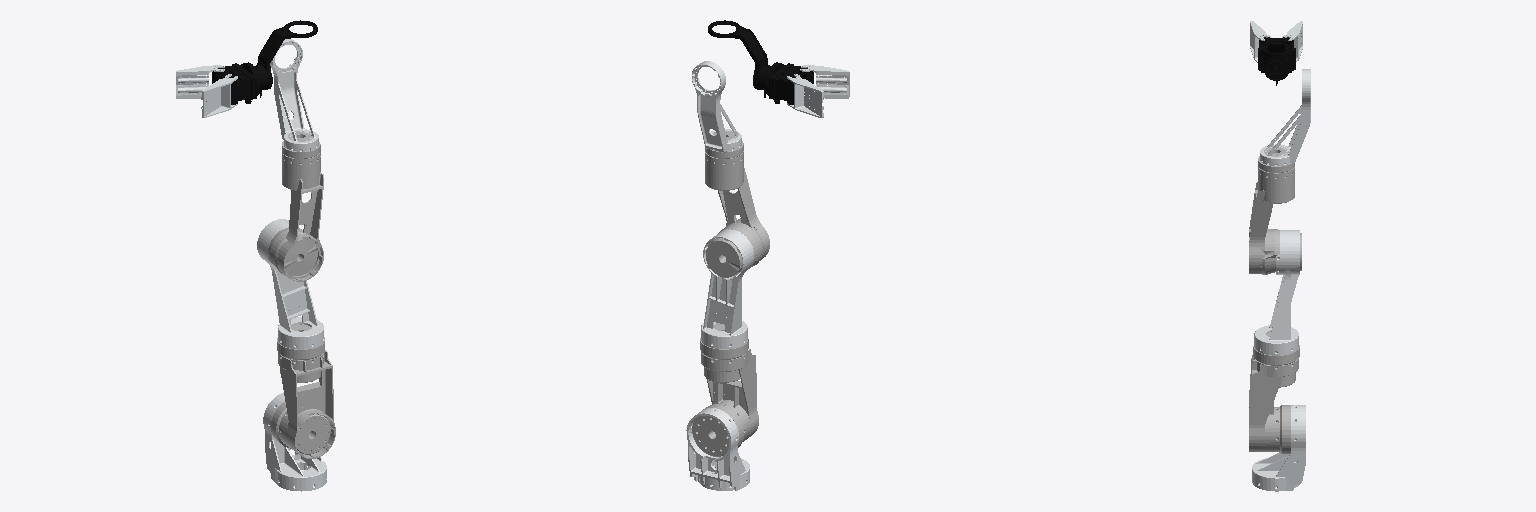
URDF robot description (arm):
<?xml version="1.0" encoding="utf-8"?>
<!-- This URDF was automatically created by SolidWorks to URDF Exporter! Originally created by [author] ([email redacted]) 
     Commit Version: 1.5.1-0-g916b5db  Build Version: 1.5.7152.31018
     For more information, please see http://wiki.ros.org/sw_urdf_exporter -->
<robot
  name="arm">
  <link
    name="base_link">
    <!--visual>
      <origin
        xyz="0 0 0"
        rpy="0 0 0" />
      <geometry>
        <mesh
          filename="package://griper/meshes/base_link.STL" />
      </geometry>
    </visual-->
  </link>

  <link
    name="leftarm_link1">
    <inertial>
      <origin
        xyz="5.55636001264848E-06 0.0288426218219448 -0.0719468523797084"
        rpy="0 0 0" />
      <mass
        value="0.185843840147318" />
      <inertia
        ixx="0.000648795137567167"
        ixy="2.97405201709316E-08"
        ixz="2.74002482408397E-08"
        iyy="0.000733900314751349"
        iyz="-0.000151109528398387"
        izz="0.000491282759255518" />
    </inertial>
    <visual>
      <origin
        xyz="0 0 0"
        rpy="0 0 0" />
      <geometry>
        <mesh
          filename="package://arm_model/meshes/leftarm_link1.obj" />
      </geometry>
      <material
        name="">
        <color
          rgba="0.898039215686275 0.913725490196078 0.925490196078431 1" />
      </material>
    </visual>
    <collision>
      <origin
        xyz="0 0 0"
        rpy="0 0 0" />
      <geometry>
        <mesh
          filename="package://arm_model/meshes/leftarm_link1.STL" />
      </geometry>
    </collision>
  </link>
  <joint
    name="leftarm_joint1"
    type="revolute">
    <origin
      xyz="0 0 0.3"
      rpy="0 0 0" />
    <parent
      link="base_link" />
    <child
      link="leftarm_link1" />
    <axis
      xyz="0 0 1" />
    <limit
      lower="-1.57"
      upper="1.57"
      effort="0"
      velocity="0" />
  </joint>
  <link
    name="leftarm_link2">
    <inertial>
      <origin
        xyz="8.00238142417697E-09 -0.0871819124783481 -0.000487247269088549"
        rpy="0 0 0" />
      <mass
        value="1.90490933692951" />
      <inertia
        ixx="0.0187743359656438"
        ixy="-1.72667623805475E-10"
        ixz="2.36806134467782E-10"
        iyy="0.00310589558857611"
        iyz="-0.000254496269531722"
        izz="0.0186287374840551" />
    </inertial>
    <visual>
      <origin
        xyz="0 0 0"
        rpy="0 0 0" />
      <geometry>
        <mesh
          filename="package://arm_model/meshes/leftarm_link2.obj" />
      </geometry>
      <material
        name="">
        <color
          rgba="0.752941176470588 0.752941176470588 0.752941176470588 1" />
      </material>
    </visual>
    <collision>
      <origin
        xyz="0 0 0"
        rpy="0 0 0" />
      <geometry>
        <mesh
          filename="package://arm_model/meshes/leftarm_link2.STL" />
      </geometry>
    </collision>
  </link>
  <joint
    name="leftarm_joint2"
    type="revolute">
    <origin
      xyz="0 0 0"
      rpy="-1.5708 0 0" />
    <parent
      link="leftarm_link1" />
    <child
      link="leftarm_link2" />
    <axis
      xyz="0 0 1" />
    <limit
      lower="-1.57"
      upper="1.57"
      effort="0"
      velocity="0" />
  </joint>
  <link
    name="leftarm_link3">
    <inertial>
      <origin
        xyz="-0.0155054054014349 0.0176104587173533 -0.0972649243526421"
        rpy="0 0 0" />
      <mass
        value="0.209213306011879" />
      <inertia
        ixx="0.00173915719253396"
        ixy="2.27350480852923E-05"
        ixz="0.000221363794616359"
        iyy="0.0018810977872288"
        iyz="-0.00015929064906947"
        izz="0.000333123310451502" />
    </inertial>
    <visual>
      <origin
        xyz="0 0 0"
        rpy="0 0 0" />
      <geometry>
        <mesh
          filename="package://arm_model/meshes/leftarm_link3.obj" />
      </geometry>
      <material
        name="">
        <color
          rgba="0.898039215686275 0.913725490196078 0.925490196078431 1" />
      </material>
    </visual>
    <collision>
      <origin
        xyz="0 0 0"
        rpy="0 0 0" />
      <geometry>
        <mesh
          filename="package://arm_model/meshes/leftarm_link3.STL" />
      </geometry>
    </collision>
  </link>
  <joint
    name="leftarm_joint3"
    type="revolute">
    <origin
      xyz="0 -0.4495 0"
      rpy="1.5708 0 0" />
    <parent
      link="leftarm_link2" />
    <child
      link="leftarm_link3" />
    <axis
      xyz="0 0 1" />
    <limit
      lower="-1.57"
      upper="1.57"
      effort="0"
      velocity="0" />
  </joint>
  <link
    name="leftarm_link4">
    <inertial>
      <origin
        xyz="0.0110265333983113 -0.0799852039296288 -0.00108071218906549"
        rpy="0 0 0" />
      <mass
        value="1.33690625718003" />
      <inertia
        ixx="0.0167776214945798"
        ixy="0.00198890984901769"
        ixz="2.96057292568186E-05"
        iyy="0.00218457251751038"
        iyz="-0.000118920676489954"
        izz="0.0167428671342608" />
    </inertial>
    <visual>
      <origin
        xyz="0 0 0"
        rpy="0 0 0" />
      <geometry>
        <mesh
          filename="package://arm_model/meshes/leftarm_link4.obj" />
      </geometry>
      <material
        name="">
        <color
          rgba="0.752941176470588 0.752941176470588 0.752941176470588 1" />
      </material>
    </visual>
    <collision>
      <origin
        xyz="0 0 0"
        rpy="0 0 0" />
      <geometry>
        <mesh
          filename="package://arm_model/meshes/leftarm_link4.STL" />
      </geometry>
    </collision>
  </link>
  <joint
    name="leftarm_joint4"
    type="revolute">
    <origin
      xyz="-0.03 0 0"
      rpy="-1.5708 0 0" />
    <parent
      link="leftarm_link3" />
    <child
      link="leftarm_link4" />
    <axis
      xyz="0 0 1" />
    <limit
      lower="-1.57"
      upper="1.57"
      effort="0"
      velocity="0" />
  </joint>
  <link
    name="leftarm_link5">
    <inertial>
      <origin
        xyz="-1.03809204565763E-08 0.0443595329846337 -0.105428960201801"
        rpy="0 0 0" />
      <mass
        value="0.10575077384632" />
      <inertia
        ixx="0.000617136760733635"
        ixy="-3.54168110192346E-11"
        ixz="-6.68780404729048E-11"
        iyy="0.000561067761108561"
        iyz="-0.000173267808268949"
        izz="0.000159582914664926" />
    </inertial>
    <visual>
      <origin
        xyz="0 0 0"
        rpy="0 0 0" />
      <geometry>
        <mesh
          filename="package://arm_model/meshes/leftarm_link5.obj" />
      </geometry>
      <material
        name="">
        <color
          rgba="0.898039215686275 0.913725490196078 0.925490196078431 1" />
      </material>
    </visual>
    <collision>
      <origin
        xyz="0 0 0"
        rpy="0 0 0" />
      <geometry>
        <mesh
          filename="package://arm_model/meshes/leftarm_link5.STL" />
      </geometry>
    </collision>
  </link>
  <joint
    name="leftarm_joint5"
    type="revolute">
    <origin
      xyz="0.03 -0.4495 0"
      rpy="1.5708 0 0" />
    <parent
      link="leftarm_link4" />
    <child
      link="leftarm_link5" />
    <axis
      xyz="0 0 1" />
    <limit
      lower="-1.57"
      upper="1.57"
      effort="0"
      velocity="0" />
  </joint>
  <link
    name="leftarm_link6">
    <inertial>
      <origin
        xyz="0.00111786512590739 -0.00737759119391534 -0.00255095894124485"
        rpy="0 0 0" />
      <mass
        value="2.16214825847123" />
      <inertia
        ixx="0.00602513474729965"
        ixy="-1.78610000917091E-05"
        ixz="0.000134785697607461"
        iyy="0.00509339137287331"
        iyz="5.66252208164899E-05"
        izz="0.00621299091987803" />
    </inertial>
    <visual>
      <origin
        xyz="0 0 0"
        rpy="0 0 3.1416" />
      <geometry>
        <mesh
          filename="package://arm_model/meshes/leftarm_link6_.STL" />
      </geometry>
      <material
        name="">
        <color
          rgba="0.792156862745098 0.819607843137255 0.933333333333333 1" />
      </material>
    </visual>
    <collision>
      <origin
        xyz="0 0 0"
        rpy="0 0 0" />
      <geometry>
        <mesh
          filename="package://arm_model/meshes/leftarm_link6_.STL" />
      </geometry>
    </collision>
  </link>
  <joint
    name="leftarm_joint6"
    type="revolute">
    <origin
      xyz="0 0 0"
      rpy="-1.5708 0 0" />
    <parent
      link="leftarm_link5" />
    <child
      link="leftarm_link6" />
    <axis
      xyz="0 0 1" />
    <limit
      lower="-1.57"
      upper="1.57"
      effort="0"
      velocity="0" />
  </joint>
  <link
    name="leftarm_link7">
    <inertial>
      <origin
        xyz="0.13844 -2.1332E-05 0.014219"
        rpy="0 0 0" />
      <mass
        value="0.47981" />
      <inertia
        ixx="0.00035732"
        ixy="1.4355E-07"
        ixz="0.00012634"
        iyy="0.00050931"
        iyz="-3.9431E-08"
        izz="0.0003531" />
    </inertial>
    <visual>
      <origin
        xyz="0 0 0"
        rpy="03.1416 0 0" />
      <geometry>
        <mesh
          filename="package://arm_model/meshes/leftarm_link7_.STL" />
      </geometry>
      <material
        name="">
        <color
          rgba="0.1 0.1 0.1 1" />
      </material>
    </visual>
    <collision>
      <origin
        xyz="0 0 0"
        rpy="0 0 0" />
      <geometry>
        <mesh
          filename="package://arm_model/meshes/leftarm_link7_.STL" />
      </geometry>
    </collision>
  </link>
  <joint
    name="leftarm_joint7"
    type="revolute">
    <origin
      xyz="0 0 0"
      rpy="1.5708 0 3.1416" />
    <parent
      link="leftarm_link6" />
    <child
      link="leftarm_link7" />
    <axis
      xyz="0 0 1" />
    <limit
      lower="-1.57"
      upper="1.57"
      effort="0"
      velocity="0" />
  </joint>
  <link
    name="griper1">
    <inertial>
      <origin
        xyz="0.016041 0.048076 -4.9981E-05"
        rpy="0 0 0" />
      <mass
        value="0.11514" />
      <inertia
        ixx="0.00014093"
        ixy="-2.1606E-05"
        ixz="-3.1455E-11"
        iyy="7.8491E-05"
        iyz="-8.2644E-11"
        izz="8.535E-05" />
    </inertial>
    <visual>
      <origin
        xyz="0 0 0"
        rpy="0 0 0" />
      <geometry>
        <mesh
          filename="package://arm_model/meshes/griper1.STL" />
      </geometry>
      <material
        name="">
        <color
          rgba="0.89804 0.91765 0.92941 1" />
      </material>
    </visual>
    <collision>
      <origin
        xyz="0 0 0"
        rpy="0 0 0" />
      <geometry>
        <mesh
          filename="package://arm_model/meshes/griper1.STL" />
      </geometry>
    </collision>
  </link>
  <joint
    name="griper_joint1"
    type="revolute">
    <origin
      xyz="0.19797 0.027 0.00015"
      rpy="-3.1416 0 1.5708" />
    <parent
      link="leftarm_link7" />
    <child
      link="griper1" />
    <axis
      xyz="0 0 1" />
    <limit
      lower="0"
      upper="0"
      effort="0"
      velocity="0" />
  </joint>
  <link
    name="griper2">
    <inertial>
      <origin
        xyz="0.016041 0.048076 5.0018E-05"
        rpy="0 0 0" />
      <mass
        value="0.11514" />
      <inertia
        ixx="0.00014093"
        ixy="-2.1606E-05"
        ixz="-3.3253E-11"
        iyy="7.8491E-05"
        iyz="-8.1585E-11"
        izz="8.535E-05" />
    </inertial>
    <visual>
      <origin
        xyz="0 0 0"
        rpy="0 0 0" />
      <geometry>
        <mesh
          filename="package://arm_model/meshes/griper1.STL" />
      </geometry>
      <material
        name="">
        <color
          rgba="0.89804 0.91765 0.92941 1" />
      </material>
    </visual>
    <collision>
      <origin
        xyz="0 0 0"
        rpy="0 0 0" />
      <geometry>
        <mesh
          filename="package://arm_model/meshes/griper1.STL" />
      </geometry>
    </collision>
  </link>
  <joint
    name="griper_joint2"
    type="revolute">
    <origin
      xyz="0.19797 -0.027 0.00015"
      rpy="0 0 -1.5708" />
    <parent
      link="leftarm_link7" />
    <child
      link="griper2" />
    <axis
      xyz="0 0 -1" />
    <limit
      lower="0"
      upper="0"
      effort="0"
      velocity="0" />
  </joint>


</robot>

--- What the picture shows (computed from the rendered views, not written in the file) ---
3 views of the same robot in one strip: view 1: azimuth 30°, elevation 25°; view 2: azimuth 150°, elevation 25°; view 3: azimuth 270°, elevation 25° (orthographic).
Model arm with 10 links and 9 joints (9 revolute), rooted at base_link, posed all joints at 0.
Visible links, largest first — view 1: leftarm_link2, leftarm_link4, leftarm_link3, leftarm_link1, leftarm_link5, leftarm_link7, griper1, griper2; view 2: leftarm_link2, leftarm_link4, leftarm_link3, leftarm_link1, leftarm_link7, leftarm_link5, griper2, griper1; view 3: leftarm_link2, leftarm_link4, leftarm_link3, leftarm_link1, leftarm_link5, leftarm_link7.
Link boxes in pixels (x1=…): leftarm_link2: x1=271, y1=324, x2=335, y2=458; leftarm_link4: x1=268, y1=131, x2=323, y2=281; leftarm_link3: x1=257, y1=219, x2=323, y2=349; leftarm_link1: x1=263, y1=392, x2=326, y2=491; leftarm_link5: x1=270, y1=39, x2=318, y2=151; leftarm_link7: x1=212, y1=20, x2=317, y2=104; griper1: x1=176, y1=65, x2=224, y2=98; griper2: x1=201, y1=74, x2=237, y2=117; leftarm_link2: x1=692, y1=324, x2=758, y2=456; leftarm_link4: x1=705, y1=131, x2=769, y2=277; leftarm_link3: x1=701, y1=229, x2=753, y2=348; leftarm_link1: x1=686, y1=408, x2=749, y2=490; leftarm_link7: x1=708, y1=20, x2=813, y2=104; leftarm_link5: x1=692, y1=61, x2=741, y2=152; griper2: x1=800, y1=65, x2=849, y2=98; griper1: x1=787, y1=74, x2=823, y2=117; leftarm_link2: x1=1249, y1=332, x2=1299, y2=453; leftarm_link4: x1=1249, y1=146, x2=1301, y2=274; leftarm_link3: x1=1254, y1=230, x2=1299, y2=355; leftarm_link1: x1=1252, y1=405, x2=1305, y2=491; leftarm_link5: x1=1260, y1=69, x2=1310, y2=165; leftarm_link7: x1=1258, y1=37, x2=1295, y2=85.
Bounding box of the posed robot: 0.3532 × 0.1461 × 1.13 m (x, y, z).
8 mesh visuals loaded from 8 distinct referenced files (2 binary STL, 5 OBJ); not drawn: 1 (reference not matched to a file when rendering).
